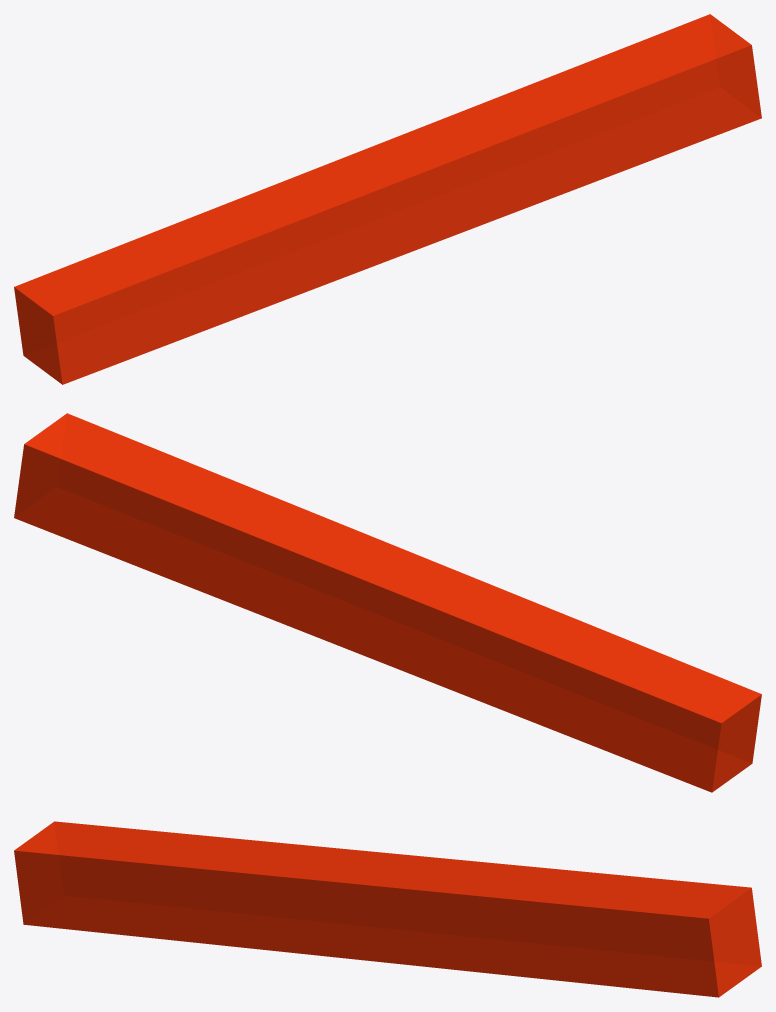
The model's file is Event_421115418_EErechit_75.fbx.
The picture shows the model from 3 angles, top to bottom: view 1: azimuth 30°, elevation 25°; view 2: azimuth 150°, elevation 25°; view 3: azimuth 330°, elevation 25°; orthographic projection.
Parts seen in each view (by area): view 1: Model; view 2: Model; view 3: Model.
Part boxes in pixels (x1=…): Model: x1=14, y1=14, x2=761, y2=384; Model: x1=14, y1=413, x2=761, y2=792; Model: x1=14, y1=821, x2=761, y2=997.
Size of the model in its own units: 0.7447 by 0.1786 by 0.0819.
